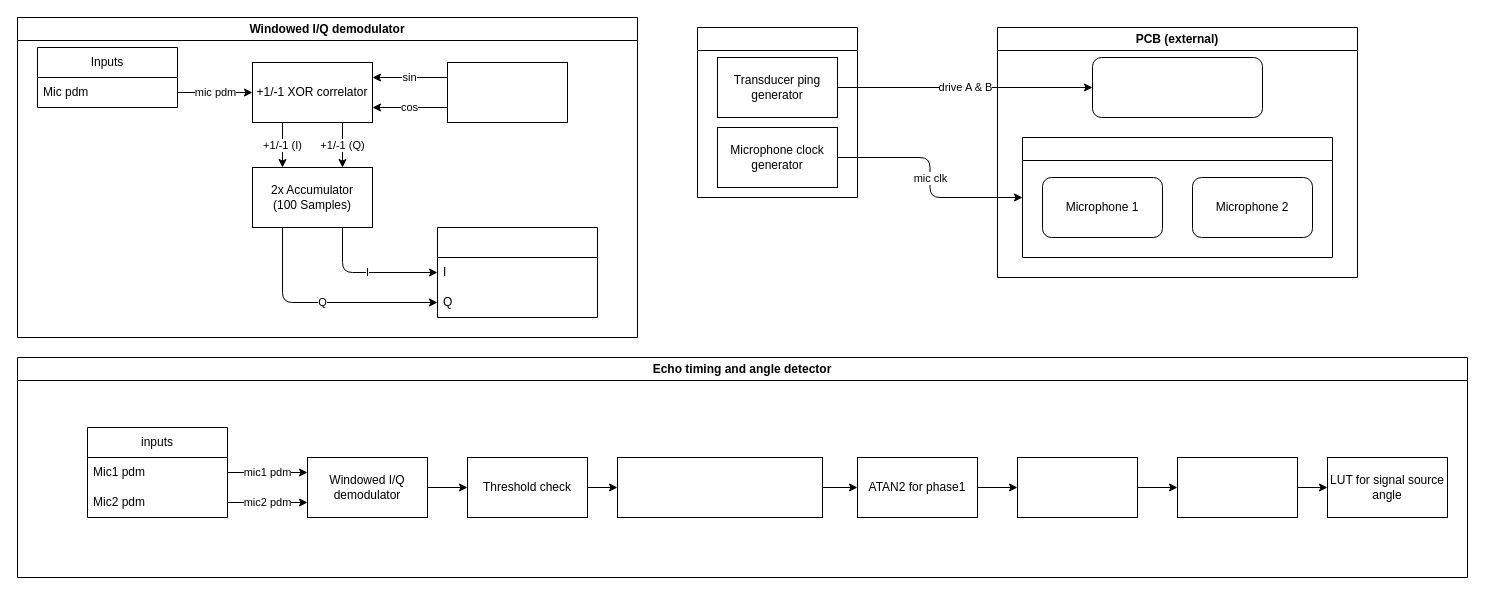
The diagram is 1485 pixels wide and 595 high, and some of its shapes have lost their labels. The shapes that lost their labels are listed below. From the top down, each one's box as (x1, y1, x2, y2) in pixels, then its label:
(446, 62, 568, 122): Reference signal generator
(1092, 56, 1262, 118): Transducer
(696, 26, 858, 198): Hardware controller
(1022, 136, 1332, 258): Microphones
(436, 226, 598, 318): Outputs
(616, 456, 822, 518): I/Q accumulator for both mics
(1016, 456, 1138, 518): ATAN2 for phase2
(1176, 456, 1298, 518): Phase difference
